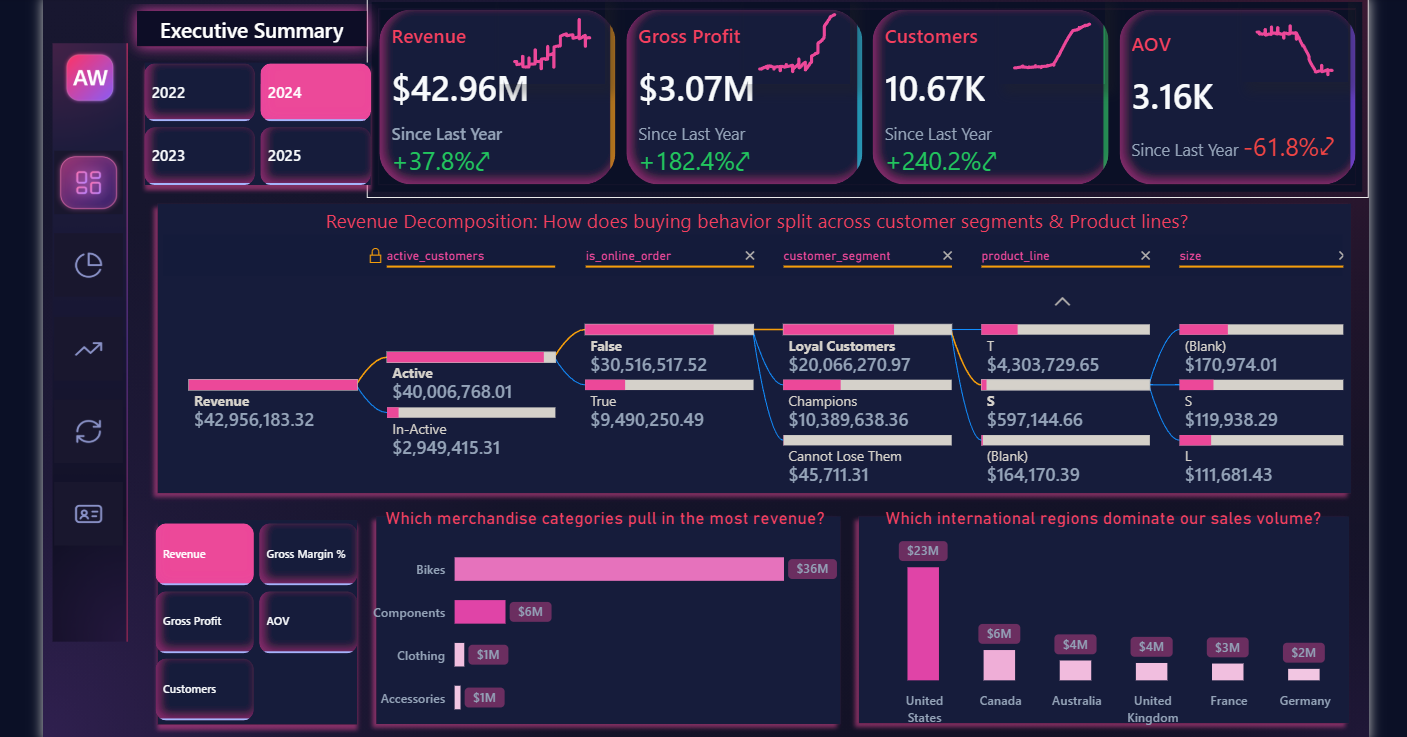

The dashboard page shown, as its layout file describes it:
{"tool":"powerbi","page":{"name":"Executive ","canvas":[1280,720],"ordinal":0},"visuals":[{"type":"cardVisual","fields":{"Data":["_Measures.Revenue","_Measures.Gross Profit","_Measures.Customers","_Measures.AOV"]},"box":[312.5,0,967.5,193.8],"z":0},{"type":"lineChart","fields":{"Y":["_Measures.Rolling Avg 3M R"],"Category":["gold dim_date.date"]},"box":[440,0,102.5,83.8],"z":1000},{"type":"lineChart","fields":{"Y":["_Measures.Rolling Avg 3M GP"],"Category":["gold dim_date.date"]},"box":[676.2,1.2,102.5,82.5],"z":2000},{"type":"lineChart","fields":{"Y":["_Measures.Rolling Avg 3M Customers"],"Category":["gold dim_date.date"]},"box":[922.5,1.2,102.5,82.5],"z":3000},{"type":"shape","box":[88.8,53.8,236.2,136.2],"z":3500,"group":"g5"},{"type":"shape","box":[101,190.6,1170,297.5],"z":3500,"group":"g3"},{"type":"shape","box":[312.4,493.4,466.4,218.5],"z":3500,"group":"g1"},{"type":"shape","box":[101.2,495.7,211.2,215.6],"z":3500,"group":"g4"},{"type":"lineChart","fields":{"Y":["_Measures.Rolling Avg 3M AOV"],"Category":["gold dim_date.date"]},"box":[1157.5,0,102.5,82.5],"z":4000},{"type":"group","id":"g1","title":"Group 1","box":[312.4,492.8,466.4,218.5],"z":5000},{"type":"group","id":"g2","title":"Group 2","box":[778.7,492.8,491.3,218.5],"z":6000},{"type":"shape","box":[778.7,493.4,491.3,218],"z":6500,"group":"g2"},{"type":"group","id":"g3","title":"Group 3","box":[101,190.6,1170,297.5],"z":7000},{"type":"columnChart","title":" Which international regions dominate our sales volume?","fields":{"Y":["_Measures.Revenue"],"Category":["gold dim_territory.country_name"]},"box":[778.7,492.8,491.2,218.5],"z":7000,"group":"g2"},{"type":"barChart","title":"Which merchandise categories pull in the most revenue?","fields":{"Y":["_Measures.Revenue"],"Category":["gold dim_product.category_name"]},"box":[312.5,492.8,460.7,219],"z":8000,"group":"g1"},{"type":"group","id":"g4","title":"Group 4","box":[101.2,495.7,211.2,215.6],"z":8000},{"type":"image","box":[1.2,40,88.8,587.5],"z":9000},{"type":"advancedSlicerVisual","fields":{"Values":["gold dim_date.year"]},"box":[92.1,58.3,229.7,127.3],"z":9000,"group":"g5"},{"type":"advancedSlicerVisual","fields":{"Values":["Metrics.Metrics"]},"box":[104.1,502.9,205.3,201.4],"z":9000,"group":"g4"},{"type":"shape","box":[77.5,0,248.8,61.2],"z":10000},{"type":"decompositionTreeVisual","fields":{"Analyze":["_Measures.Revenue"],"ExplainBy":["gold fact_customer_analytics.active_customers","gold fact_sales.is_online_order","gold fact_customer_analytics.customer_segment","gold dim_product.product_line","gold dim_product.size"]},"box":[111,224.4,1148.8,252.5],"z":10000,"group":"g3"},{"type":"group","id":"g5","title":"Group 4","box":[88.8,53.8,236.2,136.2],"z":11000},{"type":"textbox","box":[267.5,197.5,890,36.2],"z":12000},{"type":"group","id":"g6","title":"Group 5","box":[11.2,148.8,66.2,381.2],"z":13000},{"type":"actionButton","box":[11.2,148.8,66.2,61.2],"z":13000,"group":"g6"},{"type":"image","box":[12.5,32.5,66.2,90],"z":14000},{"type":"actionButton","box":[11.2,228.8,66.2,61.2],"z":14000,"group":"g6"},{"type":"actionButton","box":[11.2,388.8,66.2,61.2],"z":15000,"group":"g6"},{"type":"actionButton","box":[11.2,308.8,66.2,61.2],"z":16000,"group":"g6"},{"type":"actionButton","box":[11.2,468.8,66.2,61.2],"z":17000,"group":"g6"}]}

Visuals, with their boxes on the page's 1280x720 design canvas (x1, y1, x2, y2). These are canvas units, not pixel positions in the 1407x737 screenshot, which may show the page scaled, cropped or inside an application window:
cardVisual - _Measures.Revenue x _Measures.Gross Profit: rect(312, 0, 1280, 194)
lineChart - _Measures.Rolling Avg 3M R x gold dim_date.date: rect(440, 0, 542, 84)
lineChart - _Measures.Rolling Avg 3M GP x gold dim_date.date: rect(676, 1, 779, 84)
lineChart - _Measures.Rolling Avg 3M Customers x gold dim_date.date: rect(922, 1, 1025, 84)
shape: rect(89, 54, 325, 190)
shape: rect(101, 191, 1271, 488)
shape: rect(312, 493, 779, 712)
shape: rect(101, 496, 312, 711)
lineChart - _Measures.Rolling Avg 3M AOV x gold dim_date.date: rect(1158, 0, 1260, 82)
"Group 1" group: rect(312, 493, 779, 711)
"Group 2" group: rect(779, 493, 1270, 711)
shape: rect(779, 493, 1270, 711)
"Group 3" group: rect(101, 191, 1271, 488)
" Which international regions dominate our sales volume?" columnChart: rect(779, 493, 1270, 711)
"Which merchandise categories pull in the most revenue?" barChart: rect(312, 493, 773, 712)
"Group 4" group: rect(101, 496, 312, 711)
image: rect(1, 40, 90, 628)
advancedSlicerVisual - gold dim_date.year: rect(92, 58, 322, 186)
advancedSlicerVisual - Metrics.Metrics: rect(104, 503, 309, 704)
shape: rect(78, 0, 326, 61)
decompositionTreeVisual - _Measures.Revenue x gold fact_customer_analytics.active_customers: rect(111, 224, 1260, 477)
"Group 4" group: rect(89, 54, 325, 190)
textbox: rect(268, 198, 1158, 234)
"Group 5" group: rect(11, 149, 77, 530)
actionButton: rect(11, 149, 77, 210)
image: rect(12, 32, 79, 122)
actionButton: rect(11, 229, 77, 290)
actionButton: rect(11, 389, 77, 450)
actionButton: rect(11, 309, 77, 370)
actionButton: rect(11, 469, 77, 530)
